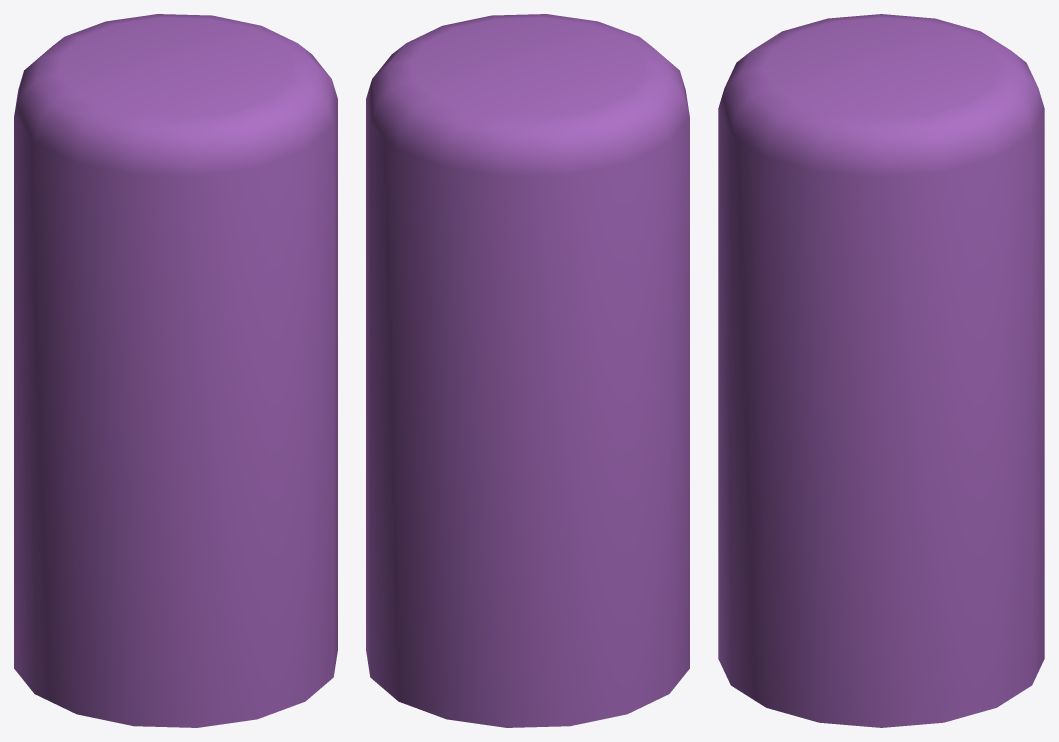
The model's file is Finish.Borts.fbx.
3 views of the same model, side by side, from view 1: azimuth 30°, elevation 25°; view 2: azimuth 150°, elevation 25°; view 3: azimuth 270°, elevation 25° (orthographic).
Parts seen in each view (by area): view 1: Finish.Borts; view 2: Finish.Borts; view 3: Finish.Borts.
Boxes of the visible parts, x1,y1,x2,y2 form: Finish.Borts: (14, 14, 337, 727); Finish.Borts: (366, 14, 689, 727); Finish.Borts: (718, 14, 1044, 727).
Size of the model in its own units: 1.5 by 3 by 1.5.
